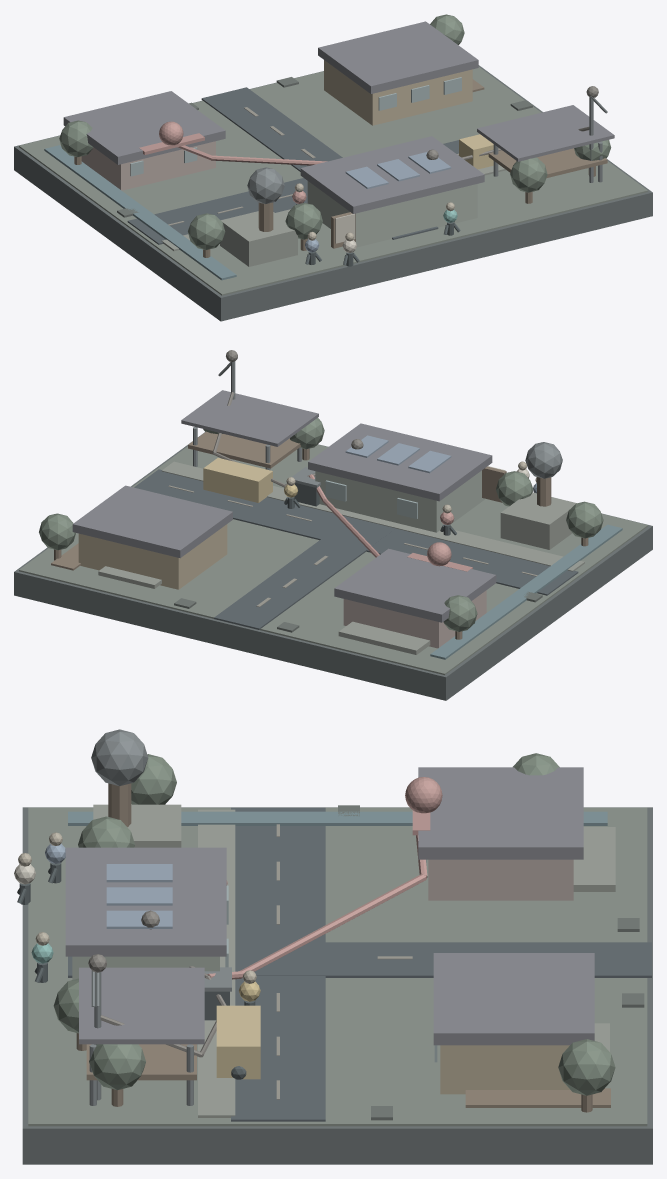
Rendered from yudae_e_clinic_open.glb.
The picture shows the model from 3 angles, top to bottom: view 1: azimuth 30°, elevation 25°; view 2: azimuth 150°, elevation 25°; view 3: azimuth 270°, elevation 25°; orthographic projection. The views are drawn at different scales.
Parts seen in each view (by area): view 1: g0001, g0000, g0037, g0043, g0031, g0042, g0003, g0054, g0036, g0061, g0030, g0016 (+18 smaller); view 2: g0001, g0000, g0002, g0037, g0043, g0031, g0003, g0036, g0054, g0042, g0015, g0061 (+15 smaller); view 3: g0001, g0000, g0002, g0037, g0043, g0031, g0003, g0054, g0030, g0036, g0015, g0016 (+19 smaller).
Part boxes in pixels (x1,y1,x2,y2): g0001: (19,67,647,295); g0000: (14,65,652,321); g0037: (318,21,478,93); g0043: (300,136,484,213); g0031: (63,91,225,164); g0042: (307,181,477,247); g0003: (201,87,438,239); g0054: (477,105,614,161); g0036: (324,60,472,125); g0061: (220,211,297,266); g0030: (81,141,215,190); g0016: (44,145,236,280); g0001: (19,444,647,675); g0000: (14,432,652,700); g0002: (134,469,578,595); g0037: (72,485,232,558); g0043: (308,423,492,501); g0031: (334,548,496,622); g0003: (214,517,395,629); g0036: (78,524,227,589); g0054: (181,390,318,446); g0042: (315,470,484,532); g0015: (162,461,584,571); g0061: (500,492,576,549); g0001: (28,807,647,1126); g0000: (22,807,652,1164); g0002: (231,807,325,1121); g0037: (433,953,594,1045); g0043: (65,847,226,956); g0031: (418,767,583,859); g0003: (68,942,651,977); g0054: (79,967,204,1044); g0030: (428,859,573,900); g0036: (440,1045,569,1094); g0015: (198,809,235,1117); g0016: (68,811,607,825).
Bounding box in the file's own units: 3.45 × 0.918 × 2.9.
